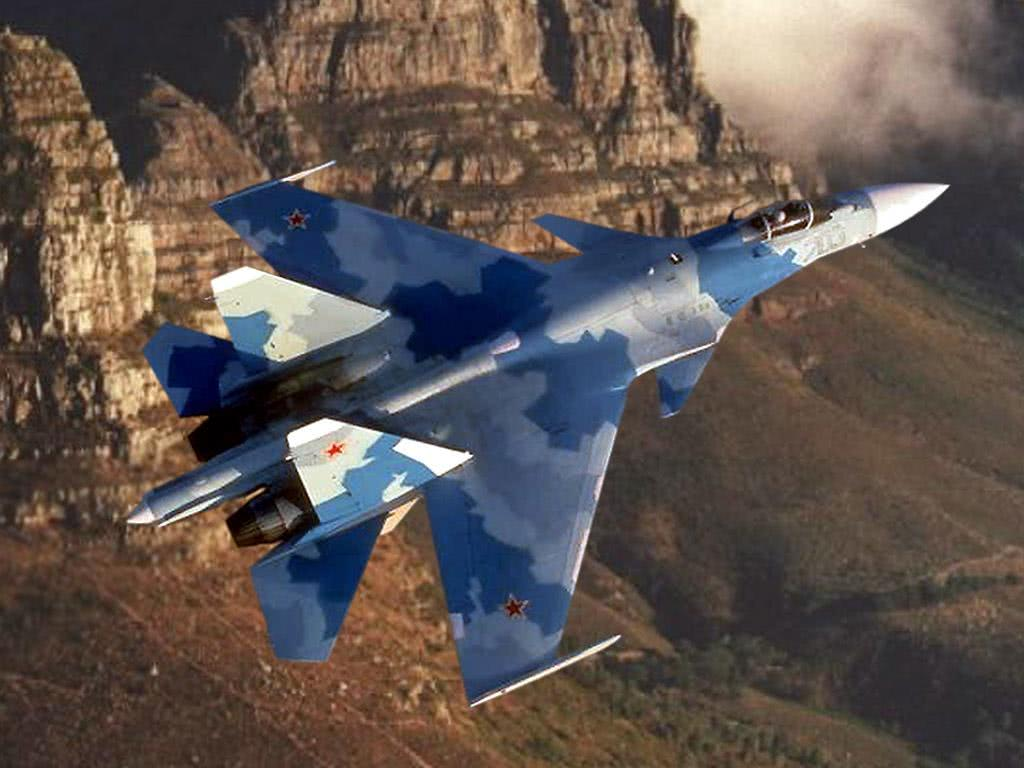airplane: (114, 160, 943, 695)
